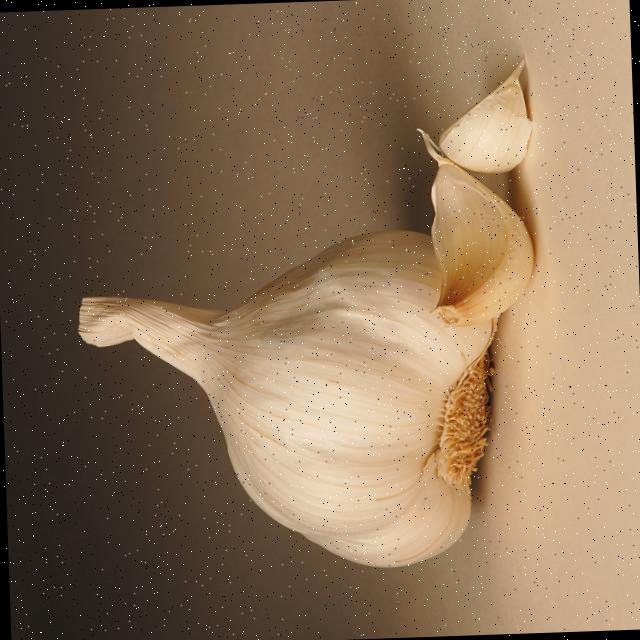garlic: (78, 59, 534, 566), (78, 229, 492, 566), (417, 128, 533, 326), (438, 57, 531, 173)
